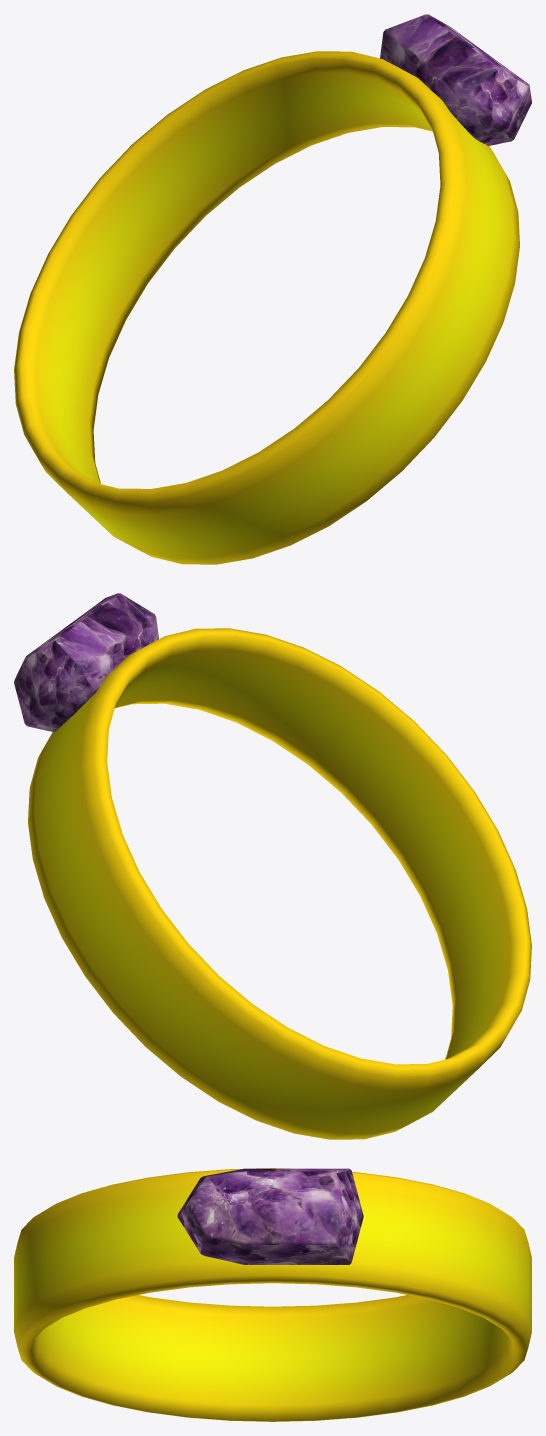
File: amethyst_ring.fbx
The picture shows the model from 3 angles, top to bottom: view 1: azimuth 30°, elevation 25°; view 2: azimuth 150°, elevation 25°; view 3: azimuth 270°, elevation 25°; orthographic projection. The views are drawn at different scales.
Parts seen in each view (by area): view 1: ring; view 2: ring; view 3: ring.
Part boxes in pixels (<box>): ring: <box>14,14,531,564</box>; ring: <box>14,593,531,1139</box>; ring: <box>14,1168,531,1421</box>.
Bounding box in the file's own units: 32.38 × 29.67 × 34.58.
